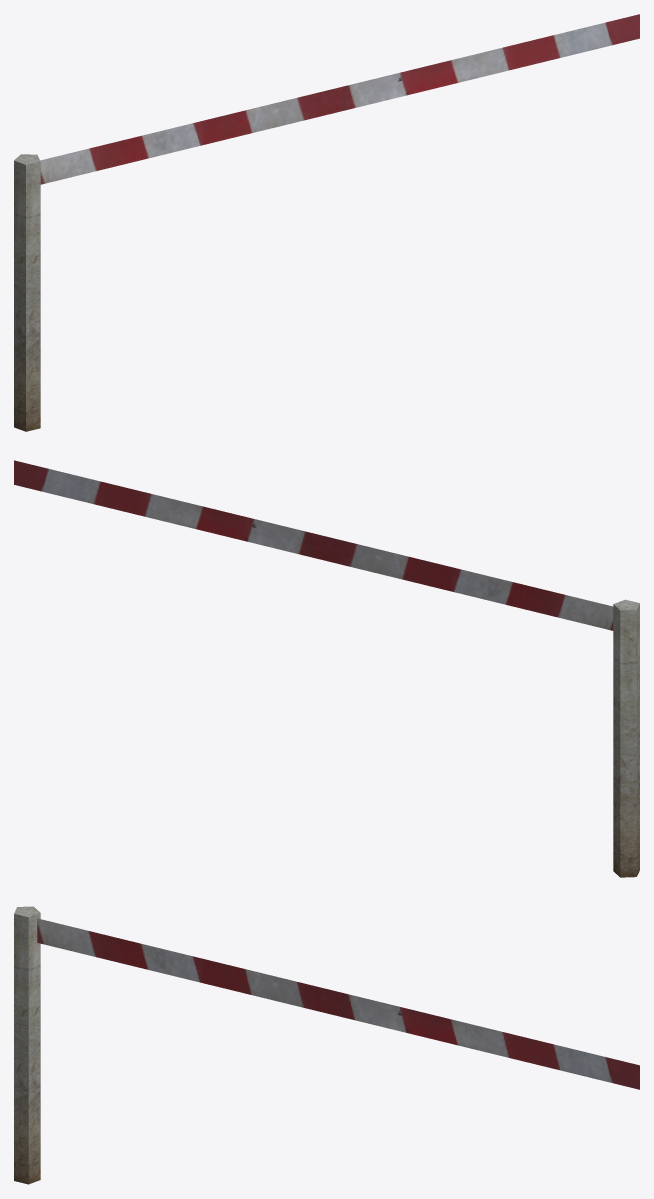
File: barrier.fbx
The picture shows the model from 3 angles, top to bottom: view 1: azimuth 30°, elevation 25°; view 2: azimuth 150°, elevation 25°; view 3: azimuth 330°, elevation 25°; orthographic projection.
Visible parts, largest first — view 1: Circle.005; view 2: Circle.005; view 3: Circle.005.
Boxes of the visible parts, x1,y1,x2,y2 form: Circle.005: (14, 14, 639, 431); Circle.005: (14, 460, 639, 877); Circle.005: (14, 906, 639, 1184).
Bounding box in the file's own units: 530 × 217 × 18.14.
